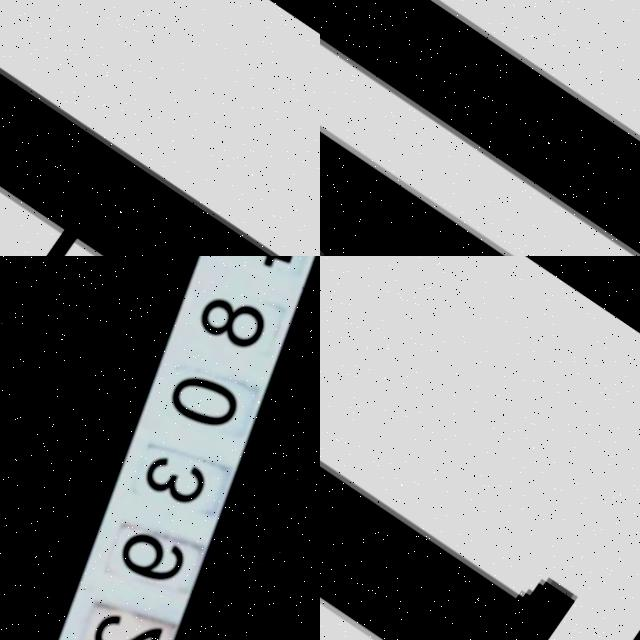0: (143, 339, 265, 458)
1: (320, 281, 600, 640)
2: (71, 582, 182, 640)
3: (120, 423, 230, 530)
4: (196, 256, 320, 301)
8: (173, 261, 292, 377)
9: (93, 497, 211, 613)
D: (320, 0, 640, 256)
